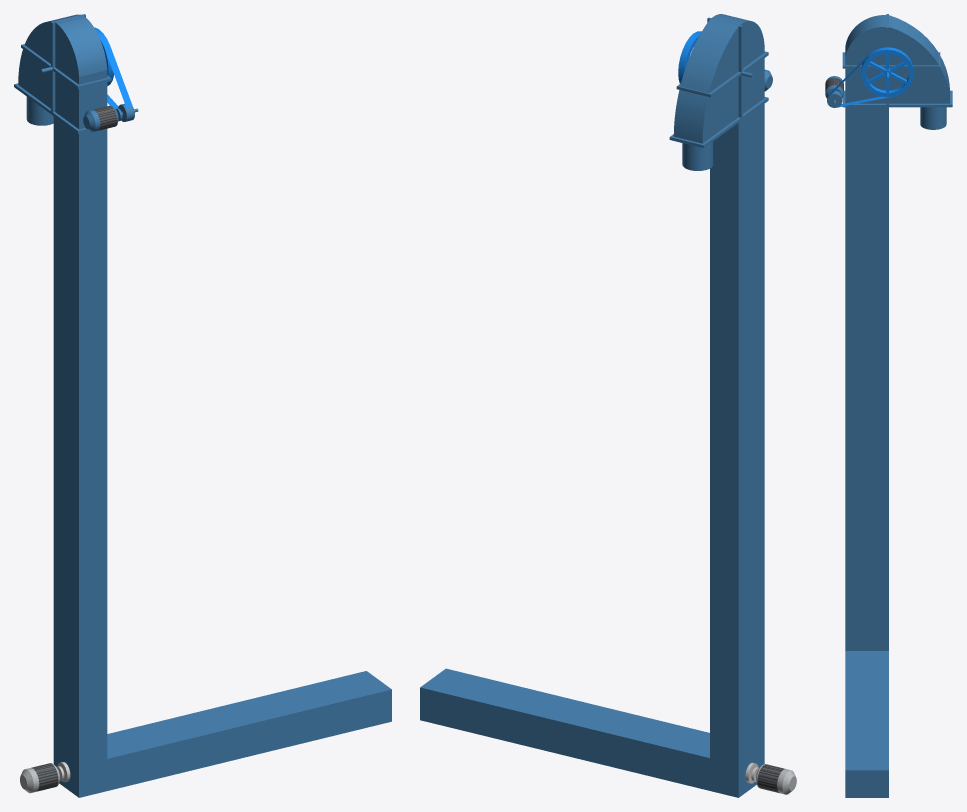
File: 干磨机后输送.glb
3 views of the same model, side by side, from view 1: azimuth 30°, elevation 25°; view 2: azimuth 150°, elevation 25°; view 3: azimuth 270°, elevation 25° (orthographic). The views are drawn at different scales.
Visible parts, largest first — view 1: root; view 2: root; view 3: root.
Part boxes in pixels (x1,y1,x2,y2): root: (14,14,391,797); root: (420,14,796,797); root: (825,14,952,797).
Size of the model in its own units: 4.03 by 8.23 by 1.46.
5 materials, 2 textured.
